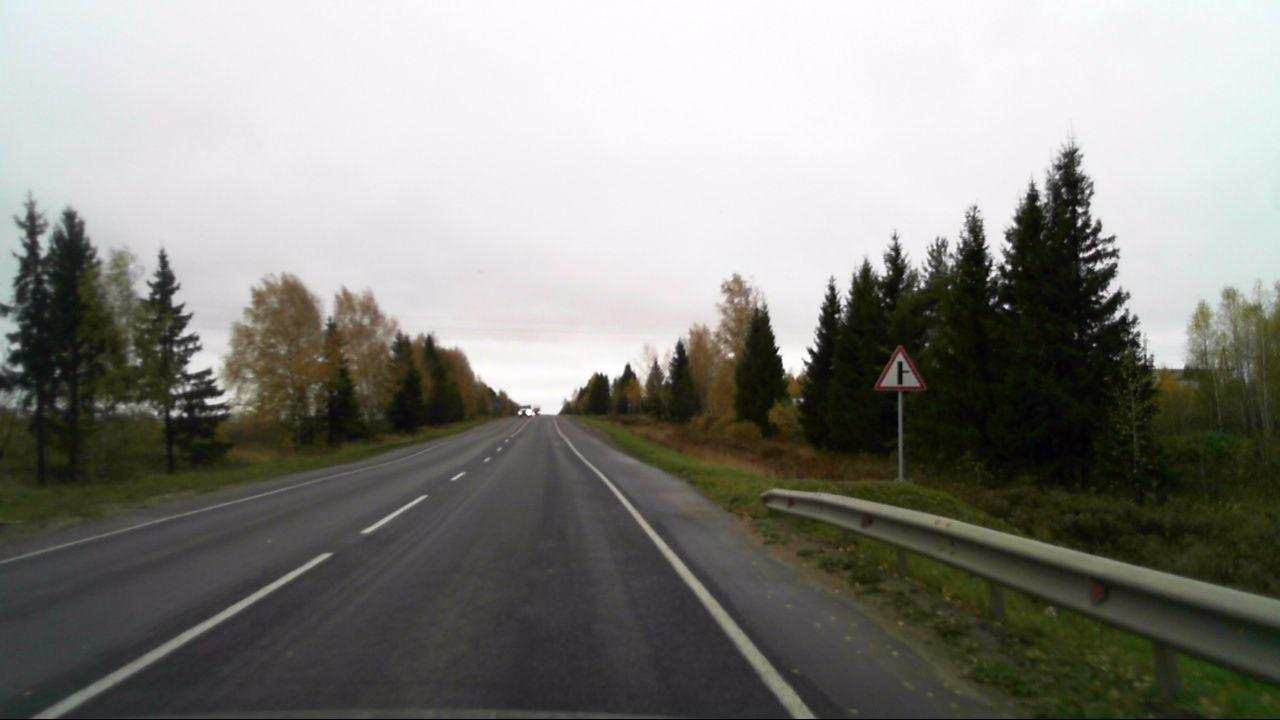2_3_2: (874, 344, 927, 392)
